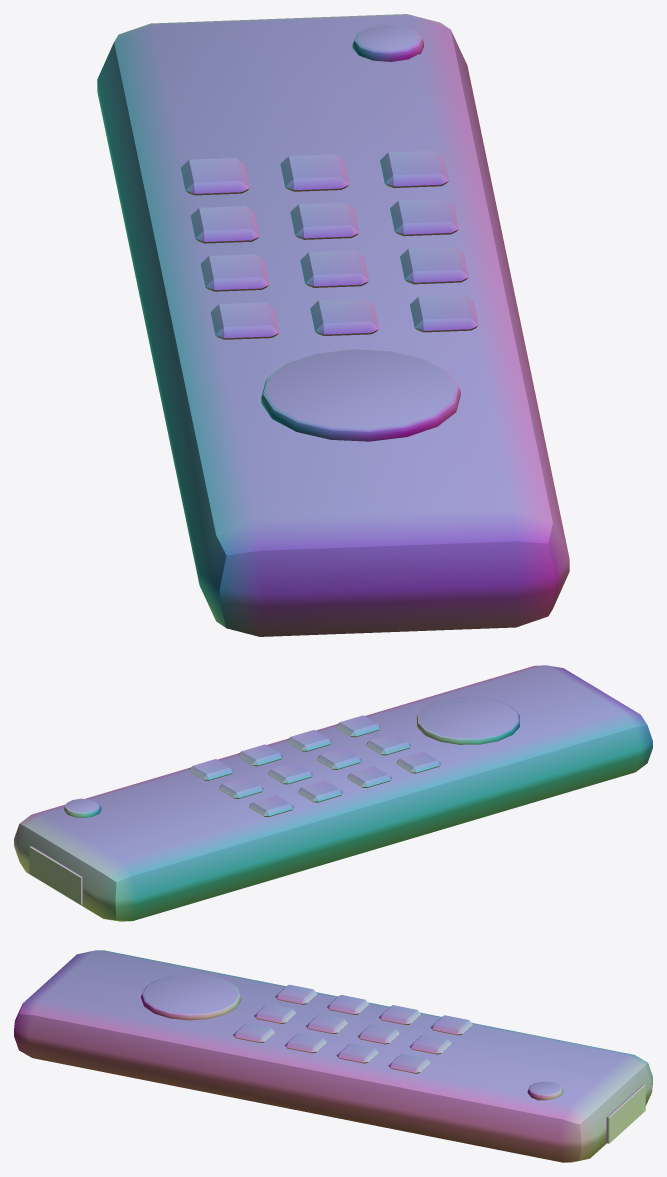
File: env_deco_remote.glb
3 renders of one model, top to bottom at view 1: azimuth 30°, elevation 25°; view 2: azimuth 150°, elevation 25°; view 3: azimuth 270°, elevation 25°, orthographic. The views are drawn at different scales.
Visible parts, largest first — view 1: env_deco_remote_mesh; view 2: env_deco_remote_mesh; view 3: env_deco_remote_mesh.
Boxes of the visible parts, box(x1,y1,x2,y2) form: env_deco_remote_mesh: box(97, 14, 569, 636); env_deco_remote_mesh: box(14, 665, 652, 921); env_deco_remote_mesh: box(14, 950, 652, 1162).
Bounding box in the file's own units: 0.5849 × 0.098 × 0.8944.
